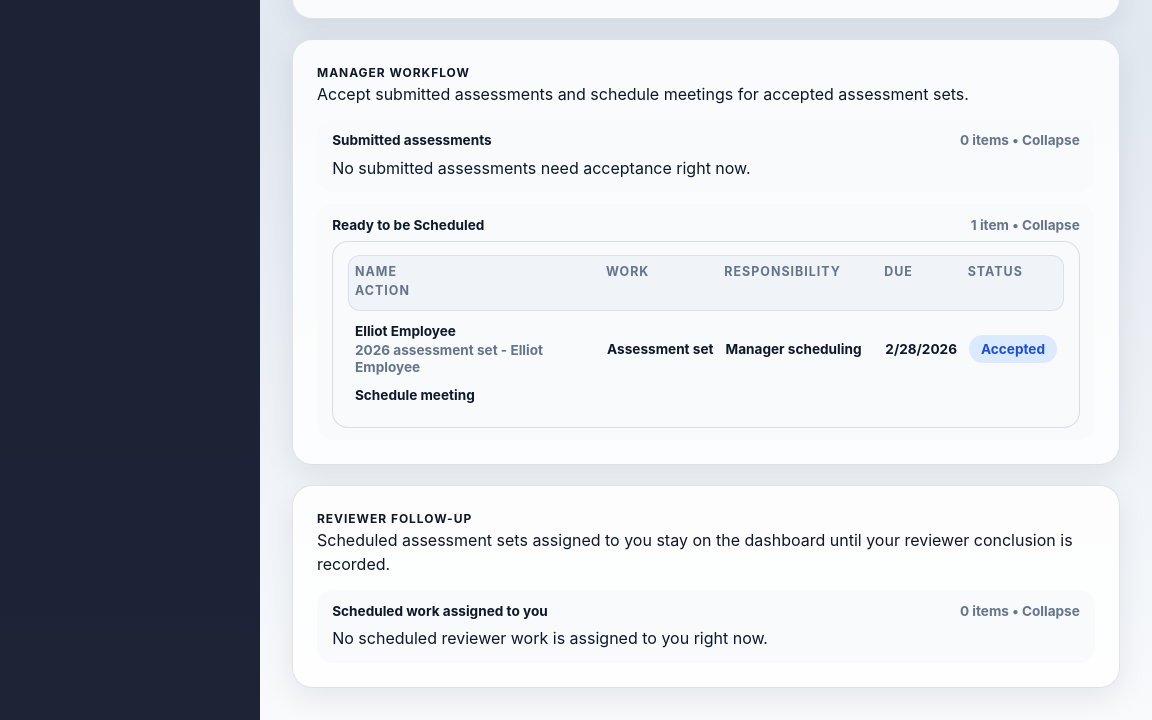
Test: dashboard workflow surface › opens assessment details from the dashboard assessment-set dialog and keeps review access role-safe
This screenshot has width=1152, height=720.
(page scrolled)
Click the button with class "review-queue-item". click: (405, 331)
box: left=348, top=313, right=1064, bottom=413
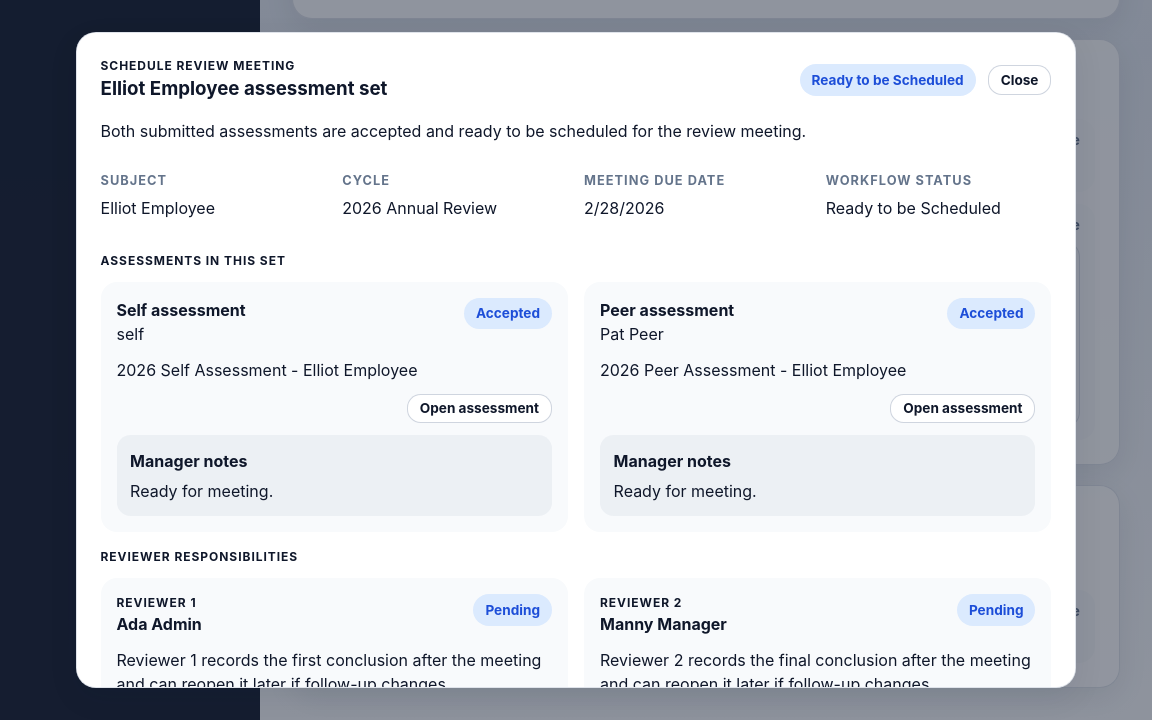
Now the text "Open assessment" is shown
Now the button "Open assessment" below "2026 Self Assessment - Elliot Employee" is shown
Click the button "Open assessment" below "2026 Self Assessment - Elliot Employee". click: (479, 409)
box: left=407, top=394, right=552, bottom=423
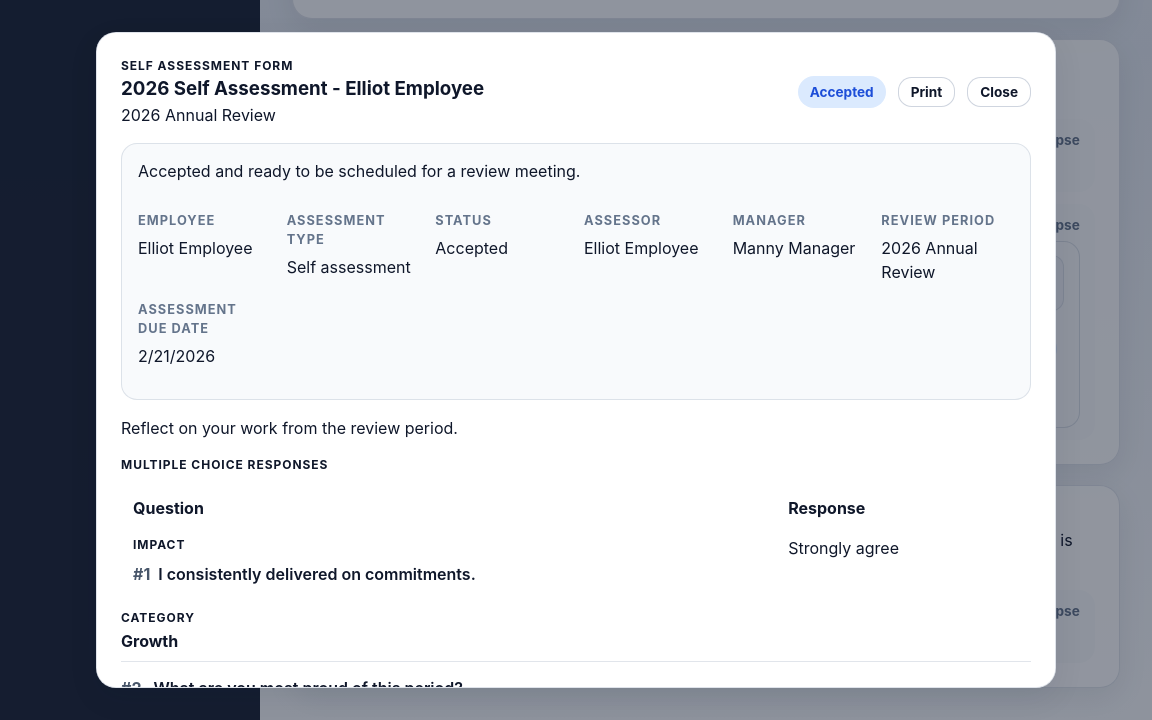
Now the text "Assessments in this set" is gone
